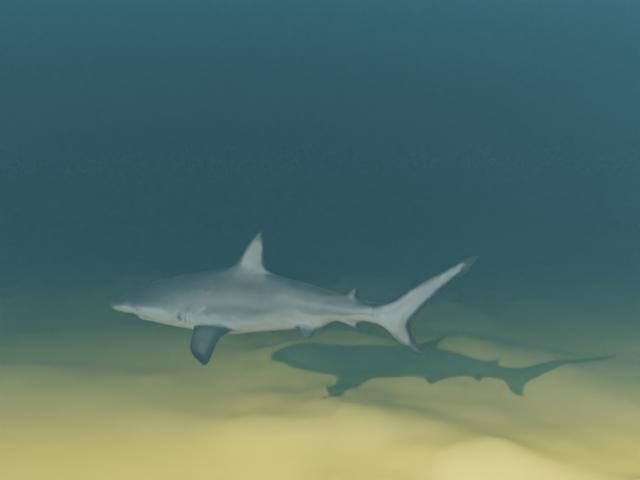Carribean Shark.001: (110, 232, 478, 365)
